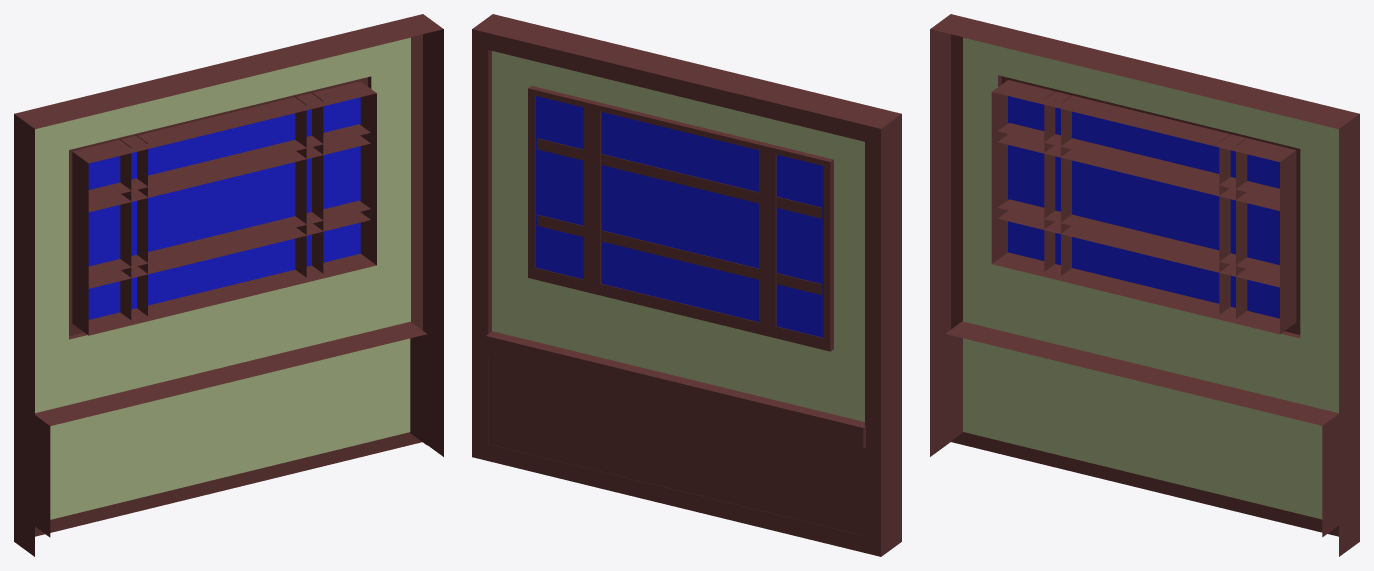
The model's file is Wall_200_Window_Large.fbx.
3 views of the same model, side by side, from view 1: azimuth 30°, elevation 25°; view 2: azimuth 150°, elevation 25°; view 3: azimuth 330°, elevation 25° (orthographic).
Parts seen in each view (by area): view 1: Wall_Window_Large_K; view 2: Wall_Window_Large_K; view 3: Wall_Window_Large_K.
Part boxes in pixels (box(x1,y1,x2,y2)): Wall_Window_Large_K: box(14, 14, 443, 556); Wall_Window_Large_K: box(472, 14, 901, 556); Wall_Window_Large_K: box(930, 14, 1359, 556).
Size of the model in its own units: 2 by 2 by 0.2.
